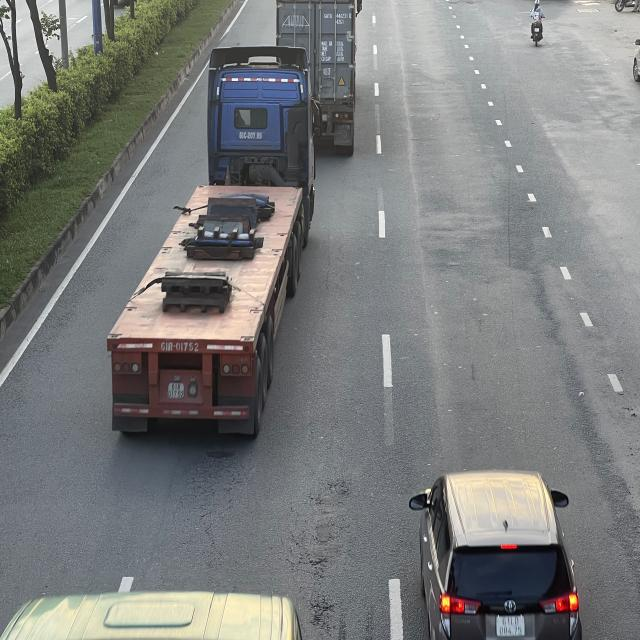car: (405, 471, 579, 640)
container: (110, 52, 321, 443), (276, 2, 364, 155)
